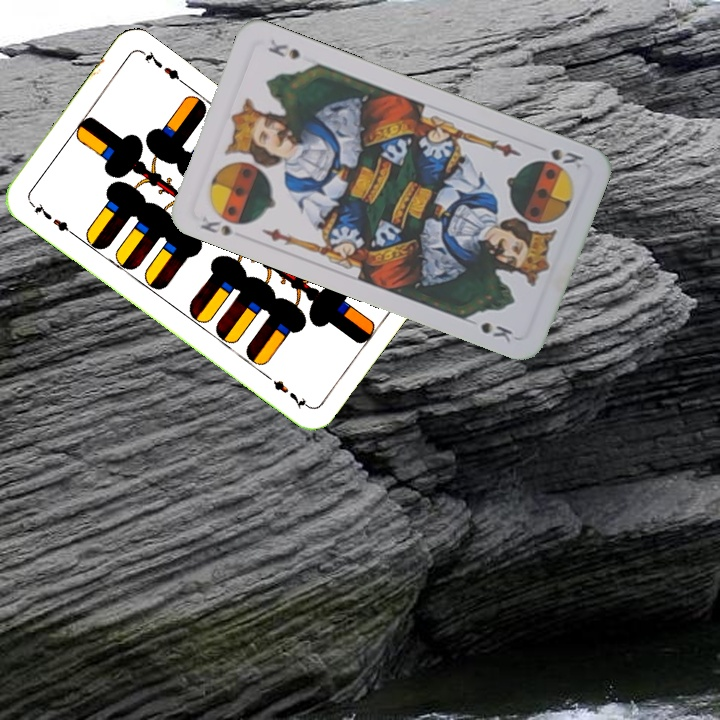E7: (26, 197, 77, 238)
SK: (196, 212, 235, 239), (547, 144, 586, 167)
